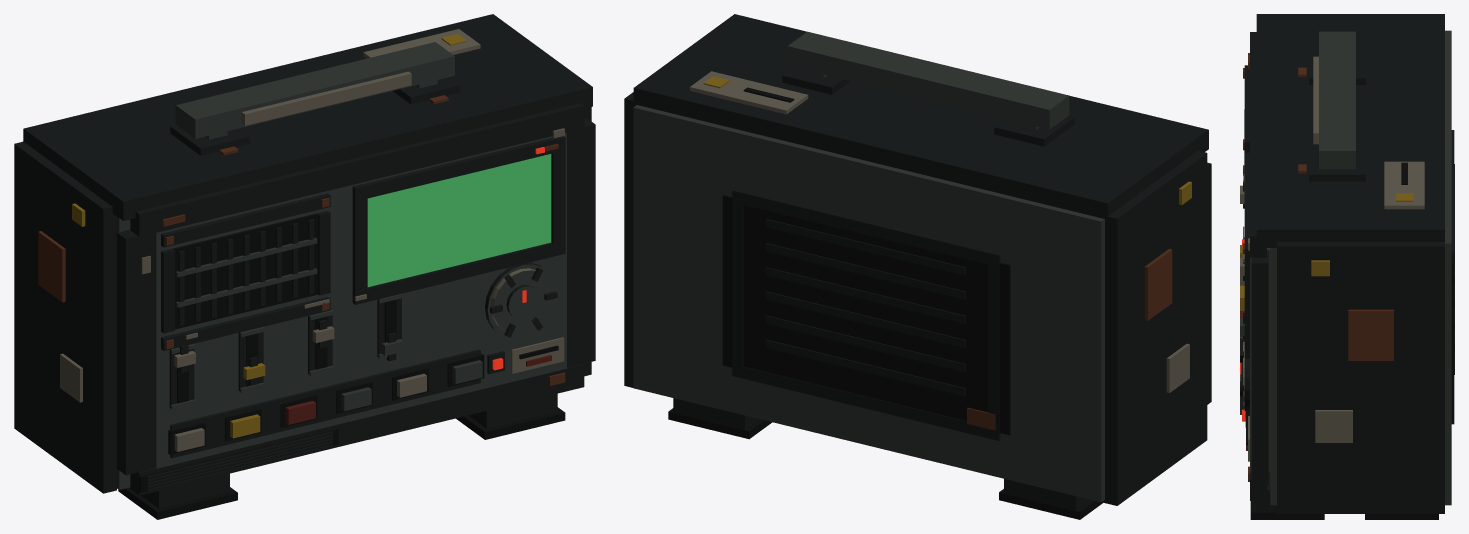
File: radio.glb
The picture shows the model from 3 angles, left to right: view 1: azimuth 30°, elevation 25°; view 2: azimuth 150°, elevation 25°; view 3: azimuth 270°, elevation 25°; orthographic projection. The views are drawn at different scales.
Parts seen in each view (by area): view 1: RadioBody, Screen; view 2: RadioBody; view 3: RadioBody.
Part boxes in pixels (<box>): RadioBody: <box>14,14,595,519</box>; Screen: <box>367,154,551,287</box>; RadioBody: <box>624,14,1211,519</box>; RadioBody: <box>1240,14,1454,519</box>.
Size of the model in its own units: 0.8 by 0.55 by 0.32.
